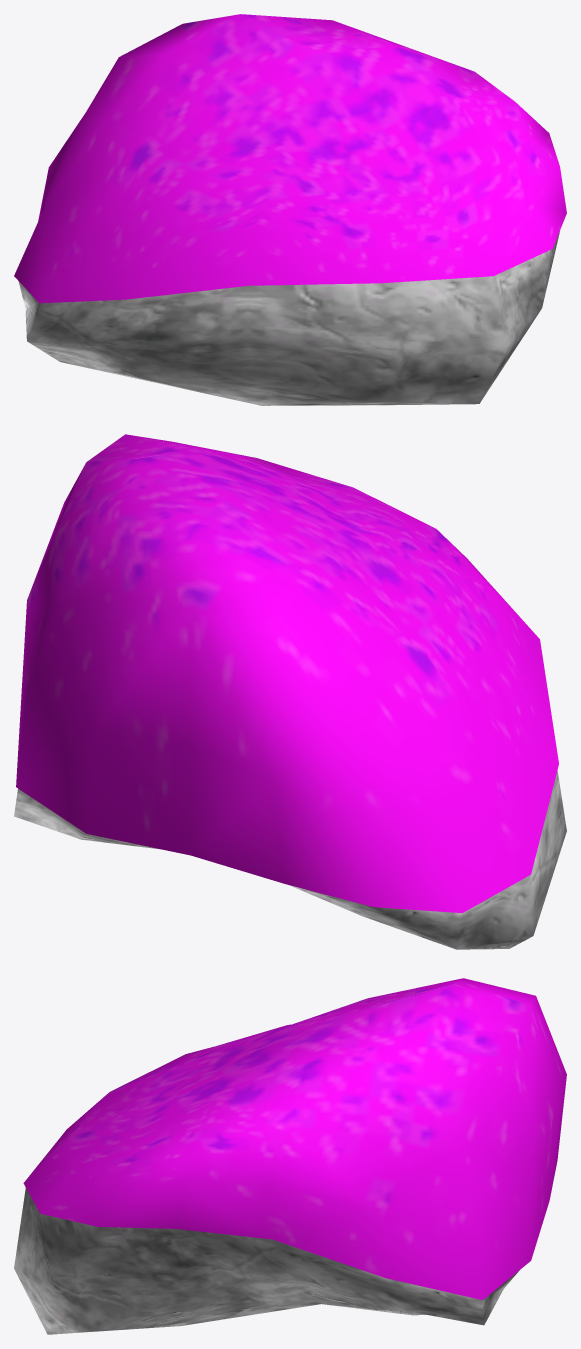
File: INST_TROLLHOLE_ROCKGLOWB.fbx
3 renders of one model, top to bottom at view 1: azimuth 30°, elevation 25°; view 2: azimuth 150°, elevation 25°; view 3: azimuth 270°, elevation 25°, orthographic. The views are drawn at different scales.
Parts seen in each view (by area): view 1: INST_TROLLHOLE_ROCKGLOWB; view 2: INST_TROLLHOLE_ROCKGLOWB; view 3: INST_TROLLHOLE_ROCKGLOWB.
Boxes of the visible parts, x1,y1,x2,y2 form: INST_TROLLHOLE_ROCKGLOWB: [14, 14, 566, 405]; INST_TROLLHOLE_ROCKGLOWB: [14, 434, 566, 949]; INST_TROLLHOLE_ROCKGLOWB: [14, 978, 566, 1334].
Size of the model in its own units: 21028 by 13964 by 21028.
2 materials, 2 textured.
